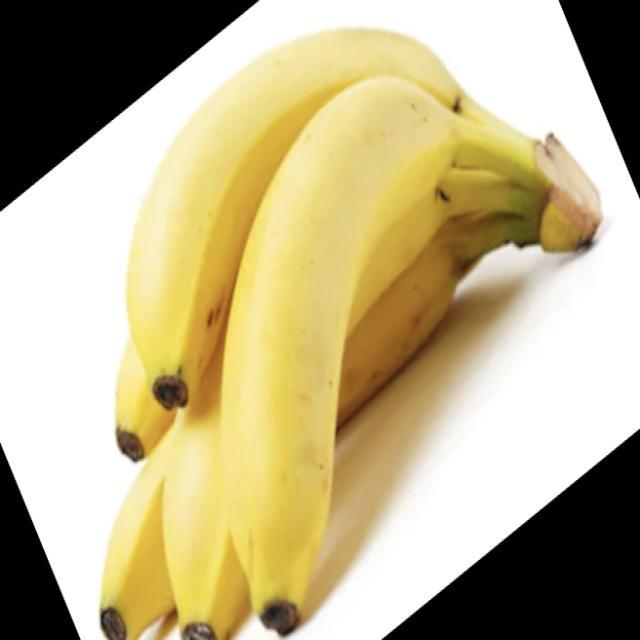Banana: (99, 25, 602, 639)
